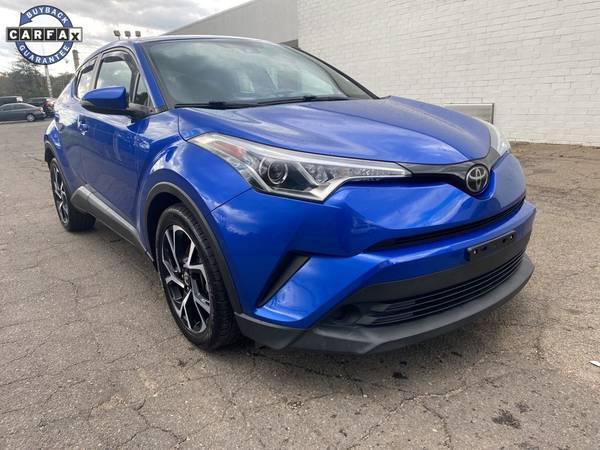Front_Bumper: (208, 148, 545, 350)
Front_Fender: (142, 106, 253, 261)
Front_Right_Door: (83, 104, 150, 250)
Front_Right_Window: (87, 50, 155, 117)
Front_Windshield: (147, 42, 381, 109)
Grille: (290, 228, 536, 353)
Hood: (186, 95, 497, 165)
Left_Headlight: (475, 114, 512, 156)
Rear_Right_Door: (43, 92, 91, 204)
Rear_Right_Window: (70, 56, 100, 103)
Right_Headlight: (189, 131, 416, 203)
Roof: (69, 37, 266, 110)
Wheel: (157, 206, 239, 346), (44, 163, 91, 230)
